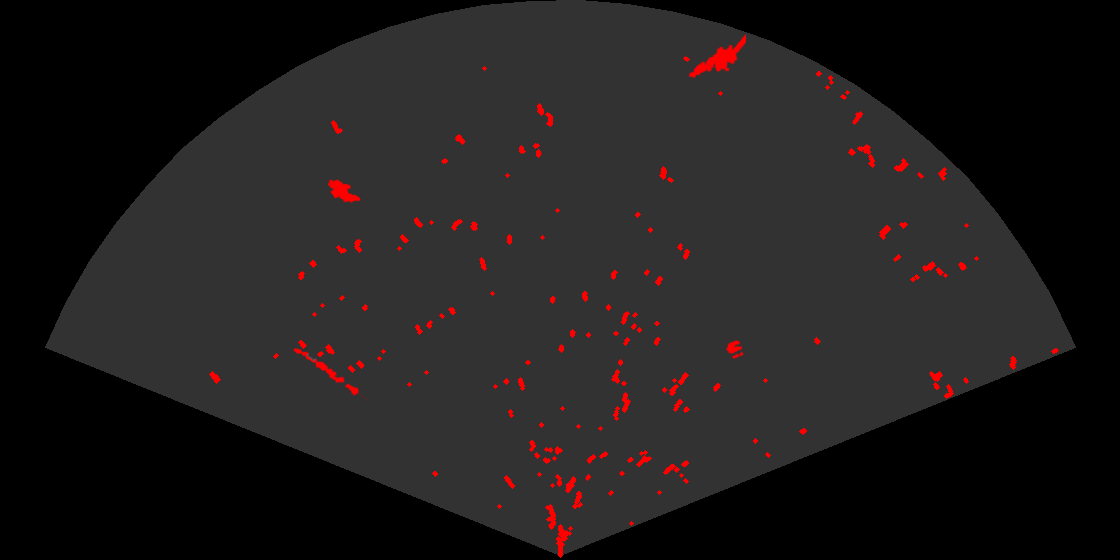AUV: (326, 178, 363, 204)
ball: (725, 338, 745, 361)
chain: (292, 346, 369, 402)
frogman: (687, 33, 746, 80)
